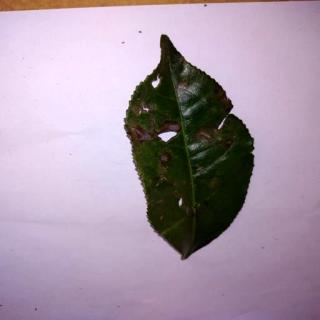Anthracnose: (124, 35, 258, 262)
